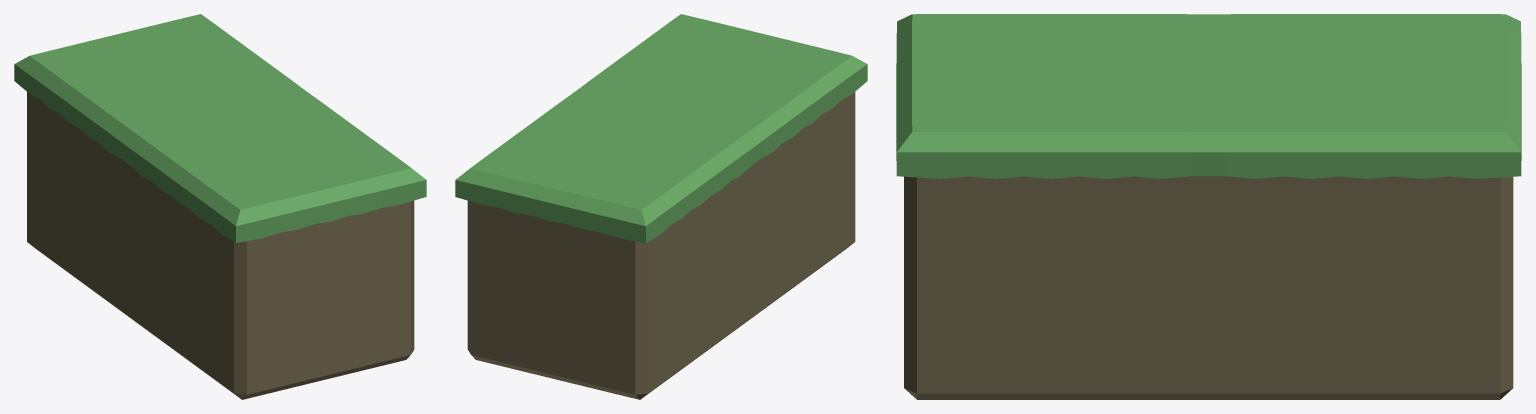
File: Grass_block_long.fbx
The picture shows the model from 3 angles, left to right: view 1: azimuth 30°, elevation 25°; view 2: azimuth 150°, elevation 25°; view 3: azimuth 270°, elevation 25°; orthographic projection. The views are drawn at different scales.
Parts seen in each view (by area): view 1: Dirt, Grass; view 2: Dirt, Grass; view 3: Dirt, Grass.
Boxes of the visible parts, x1,y1,x2,y2 form: Dirt: (27,92,414,399); Grass: (14,14,426,243); Dirt: (467,92,855,399); Grass: (455,14,867,243); Dirt: (904,176,1513,399); Grass: (896,14,1521,178).
Size of the model in its own units: 118 by 113 by 237.
